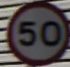Speed limit: (4, 0, 64, 59)
